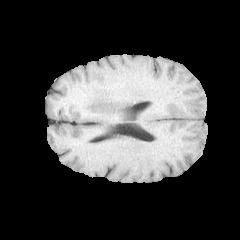glioma: (74, 88, 124, 117)
